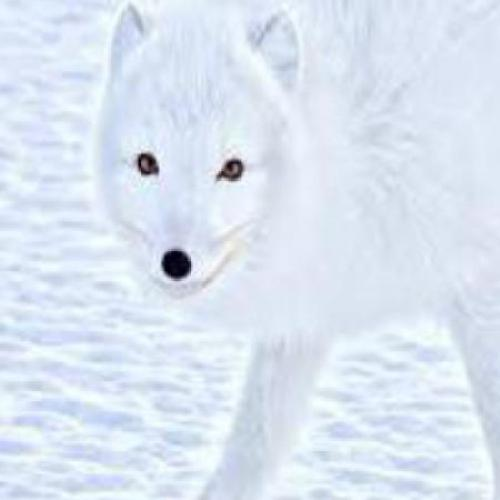arctic_fox-endangered: (93, 11, 500, 475)
